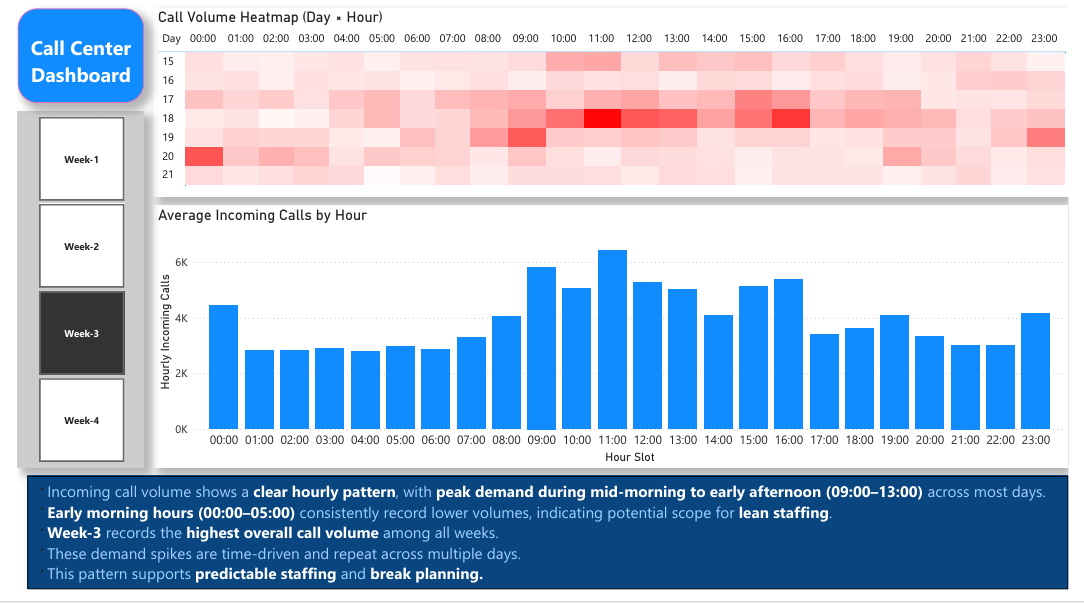

Layout of this report page (visuals, bound fields, positions):
{"tool":"powerbi","page":{"name":"Page 2","canvas":[1280,720],"ordinal":1},"visuals":[{"type":"pivotTable","title":"Call Volume Heatmap (Day × Hour)","fields":{"Values":["Call Center Data.Hourly Incoming Calls"],"Columns":["Call Center Data.Hour Slot"],"Rows":["Call Center Data.Date.Variation.Date Hierarchy.Day"]},"box":[165.6,13,1115,230.4],"z":0},{"type":"clusteredColumnChart","title":"Average Incoming Calls by Hour","fields":{"Category":["Call Center Data.Hour Slot"],"Y":["Call Center Data.Hourly Incoming Calls"]},"box":[165.6,253.4,1114.6,318.2],"z":1000},{"type":"slicer","fields":{"Values":["Call Center Data.Week Label"]},"box":[0,138.2,154.1,433.4],"z":2000},{"type":"textbox","box":[0,13,154.1,115.2],"z":3000},{"type":"textbox","box":[11.5,581.8,1268.6,138.2],"z":4000}]}

Visuals, with their boxes in screenshot pixels (x1, y1, x2, y2), scaled from the page's 1280x720 canvas onto the 1084x603 screenshot:
"Call Volume Heatmap (Day × Hour)" pivotTable: {"x1": 140, "y1": 11, "x2": 1083, "y2": 204}
"Average Incoming Calls by Hour" clusteredColumnChart: {"x1": 140, "y1": 212, "x2": 1083, "y2": 479}
slicer - Call Center Data.Week Label: {"x1": 0, "y1": 116, "x2": 131, "y2": 479}
textbox: {"x1": 0, "y1": 11, "x2": 131, "y2": 107}
textbox: {"x1": 10, "y1": 487, "x2": 1083, "y2": 602}
